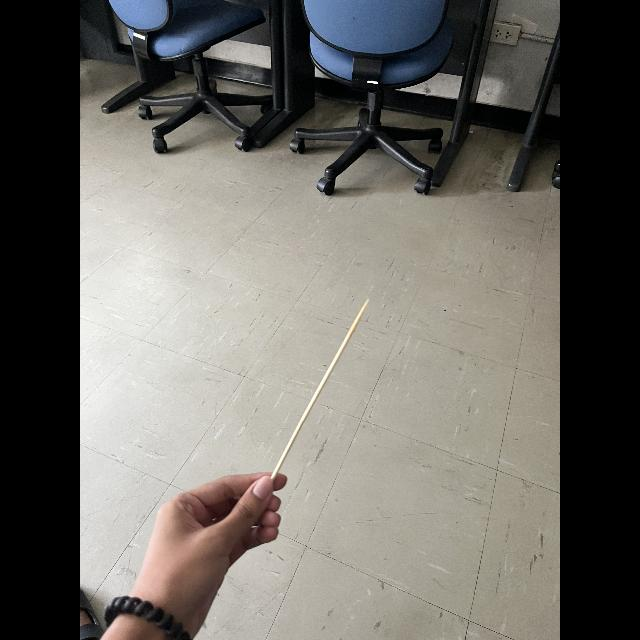stick: (259, 294, 387, 498)
